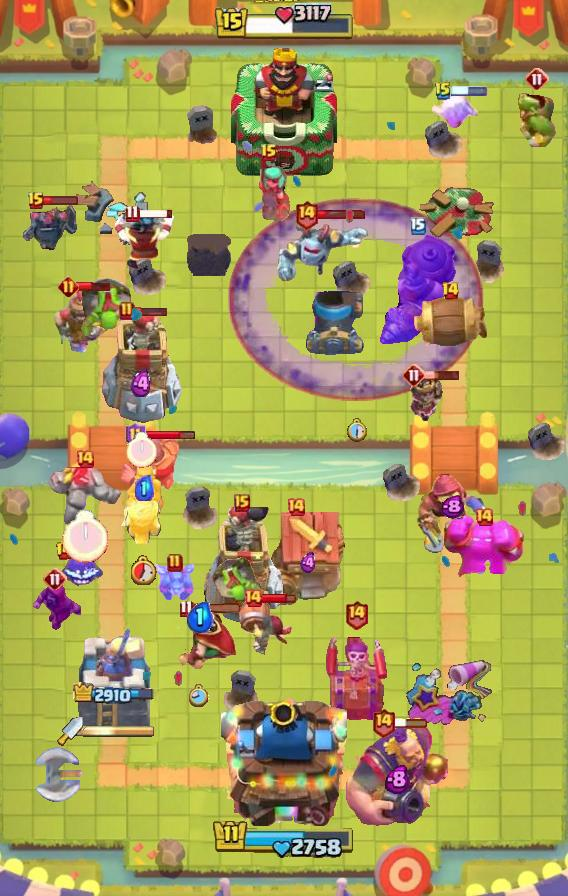axe: (33, 746, 89, 804)
bar: (143, 430, 196, 441), (191, 603, 243, 614), (316, 209, 366, 220), (424, 369, 461, 381), (393, 717, 429, 729), (261, 592, 296, 604), (133, 305, 168, 317), (137, 208, 174, 219), (76, 281, 112, 292), (43, 195, 79, 206), (450, 86, 488, 96)
bar-level: (371, 707, 396, 738), (344, 599, 369, 630), (294, 199, 319, 230), (43, 567, 67, 591), (402, 363, 426, 387), (525, 67, 549, 91), (125, 422, 146, 448), (58, 276, 79, 297), (243, 588, 263, 608), (474, 507, 494, 527), (286, 497, 306, 517), (75, 449, 95, 469), (55, 541, 74, 561), (441, 281, 460, 301), (27, 191, 45, 211), (260, 143, 278, 163), (434, 81, 452, 101), (167, 553, 183, 573), (119, 301, 135, 321), (234, 494, 250, 512), (410, 217, 426, 235), (179, 599, 194, 618), (125, 204, 140, 223)
barbarian-barrel: (410, 293, 490, 353)
bomb: (187, 234, 231, 276)
clock: (62, 510, 108, 563), (126, 432, 157, 468), (131, 555, 157, 585), (346, 418, 367, 442), (189, 684, 209, 708)
dagger-duchess-tower: (75, 623, 153, 731)
dagger-duchess-tower-bar: (83, 724, 155, 738)
electro-spirit: (56, 551, 104, 591)
electro-wizard: (108, 211, 178, 271)
elixir: (186, 601, 213, 633), (385, 764, 410, 794), (130, 369, 153, 399), (440, 495, 464, 519), (135, 475, 154, 501), (300, 552, 317, 574)
goblin-ball: (78, 277, 132, 339), (210, 554, 268, 602)
goblin-brawler: (515, 91, 559, 147)
golemite: (47, 462, 123, 524)
ice-spirit-evolution: (428, 92, 478, 130)
king-tower: (221, 690, 347, 826), (231, 43, 337, 181)
king-tower-bar: (212, 818, 356, 860), (213, 3, 355, 43)
knight: (120, 433, 181, 495)
little-prince: (407, 372, 445, 424)
mega-minion: (274, 217, 370, 283)
mini-pekka: (18, 204, 80, 252)
minion: (154, 563, 196, 601)
mortar: (304, 291, 364, 355)
ram-rider: (121, 462, 167, 546)
rascal-girl: (246, 165, 292, 221)
royal-recruit: (54, 283, 108, 355)
tower-bar: (73, 682, 156, 707)
wall-breaker: (238, 597, 294, 657)
wizard: (29, 581, 81, 631)
